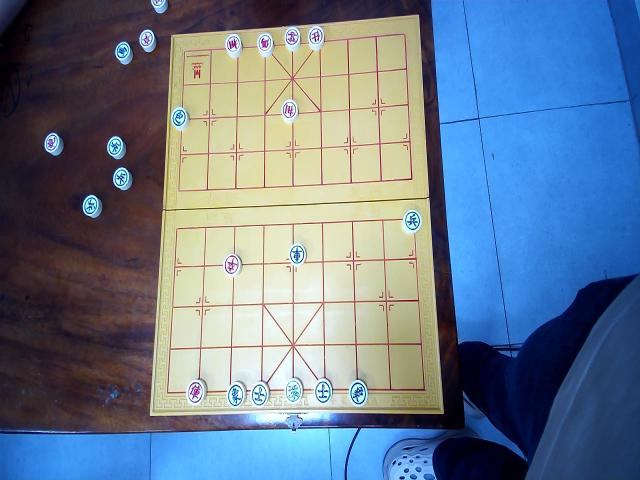piece: (348, 379, 368, 407), (402, 208, 422, 235), (186, 379, 206, 406), (250, 381, 270, 407), (227, 381, 246, 408), (82, 194, 102, 219), (112, 166, 132, 191), (43, 131, 63, 156), (314, 378, 332, 405), (106, 135, 125, 160), (284, 378, 302, 404), (225, 33, 243, 58), (307, 25, 325, 50), (280, 98, 298, 123), (171, 106, 189, 131), (138, 28, 156, 53), (114, 40, 132, 65), (223, 253, 241, 277), (257, 32, 273, 58), (284, 25, 300, 51), (288, 243, 306, 266), (150, 0, 167, 13)
